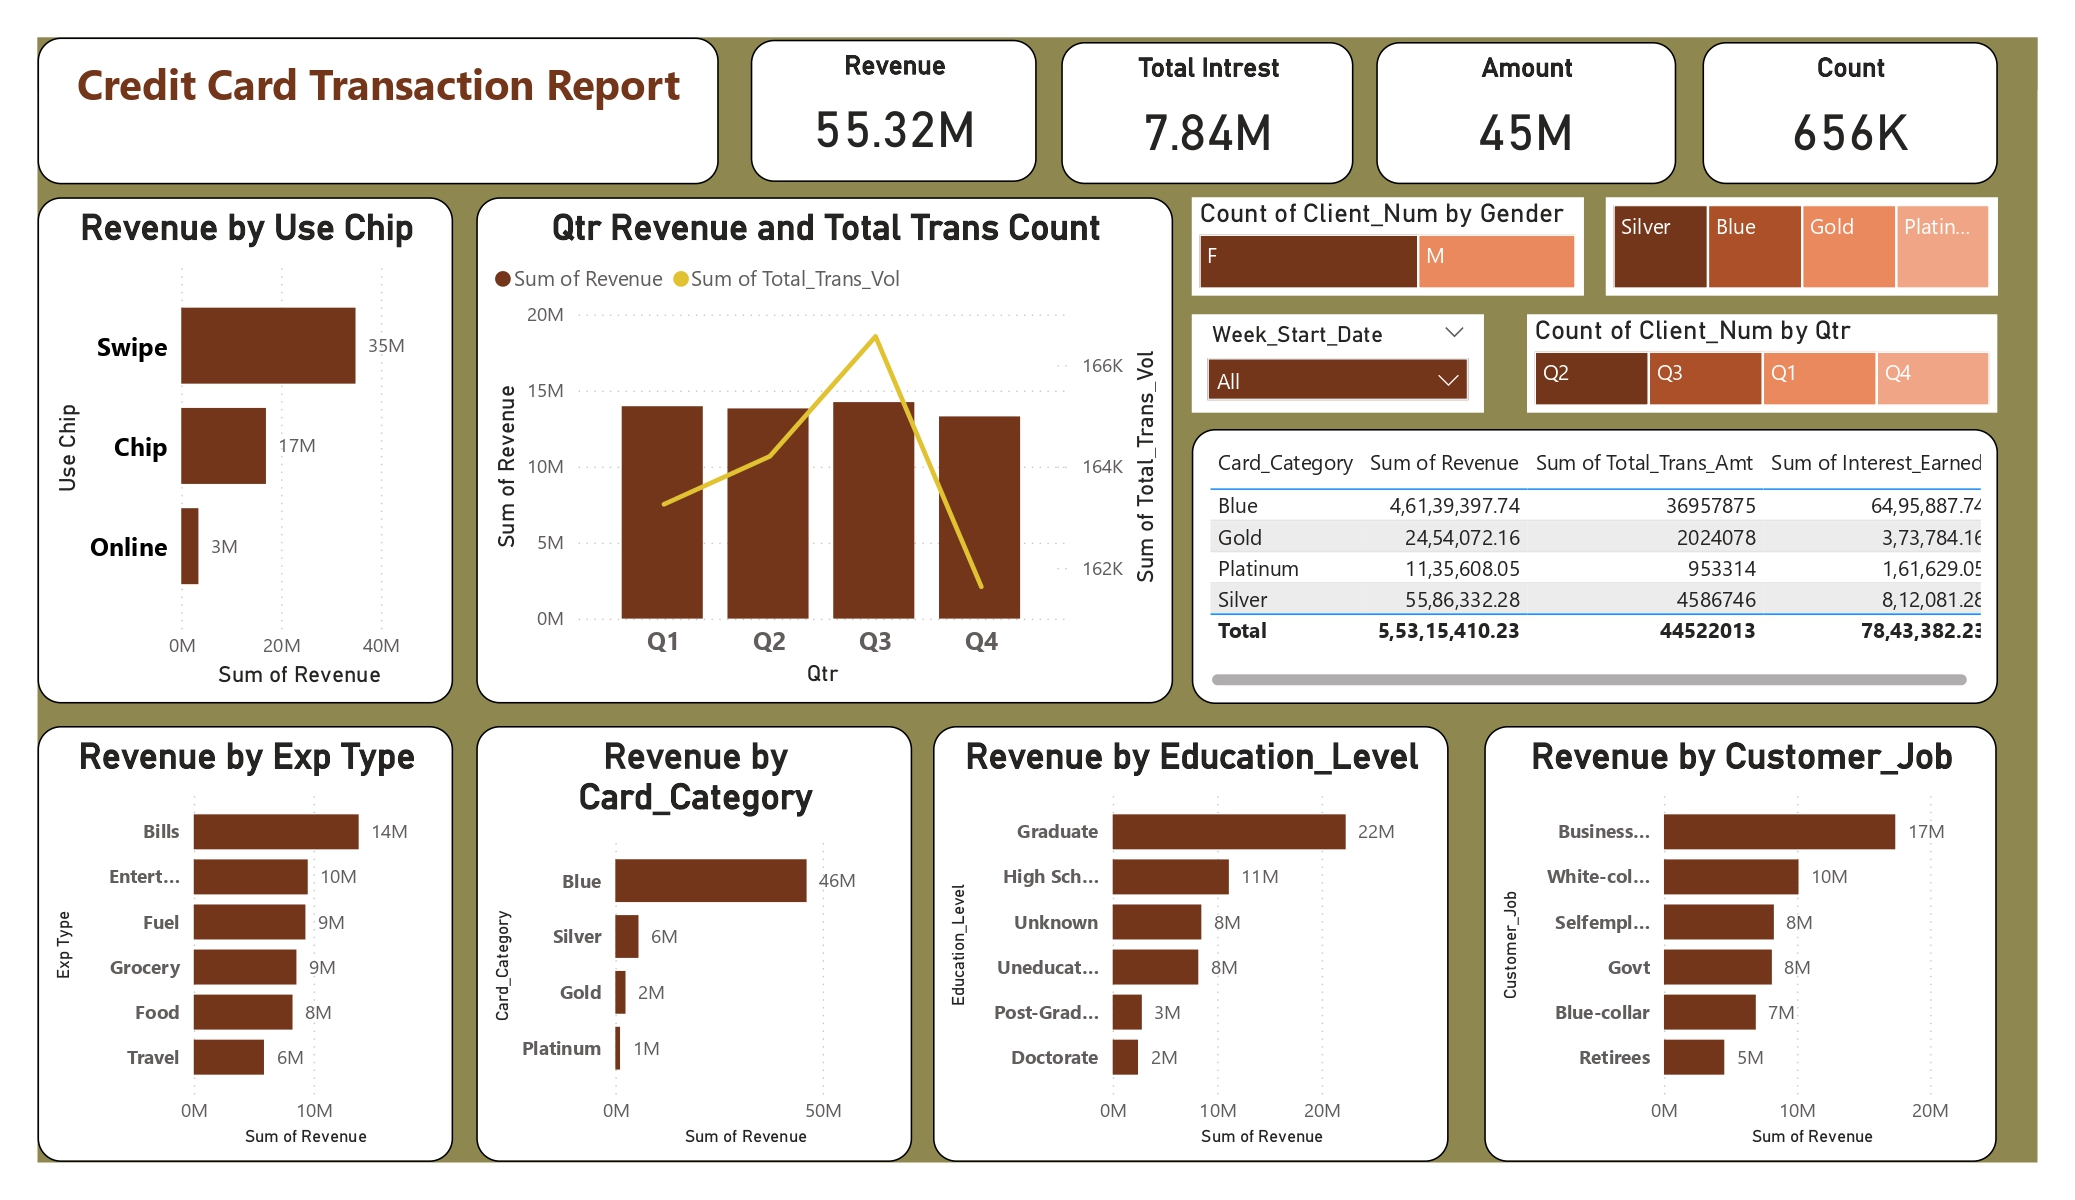

Layout of this report page (visuals, bound fields, positions):
{"tool":"powerbi","page":{"name":"Credit card transaction dashboard","canvas":[1280,720],"ordinal":0},"visuals":[{"type":"textbox","box":[0,0,436.3,93.6],"z":0},{"type":"lineStackedColumnComboChart","title":"Qtr Revenue and Total Trans Count","fields":{"Category":["credit_card.Qtr"],"Y":["Sum(credit_card.Revenue)"],"Y2":["Sum(credit_card.Total_Trans_Vol)"]},"box":[280.8,102.2,446.4,324],"z":1000},{"type":"barChart","title":"Revenue by Exp Type","fields":{"Y":["Sum(credit_card.Revenue)"],"Category":["credit_card.Exp Type"]},"box":[0,440.6,266.4,279.4],"z":2000},{"type":"barChart","title":"Revenue by Card_Category","fields":{"Category":["credit_card.Card_Category"],"Y":["Sum(credit_card.Revenue)"]},"box":[280.8,440.6,279.4,279.4],"z":3000},{"type":"barChart","title":"Revenue by Education_Level","fields":{"Y":["Sum(credit_card.Revenue)"],"Category":["customer.Education_Level"]},"box":[573.1,440.6,329.8,279.4],"z":4000},{"type":"barChart","title":"Revenue by Customer_Job","fields":{"Y":["Sum(credit_card.Revenue)"],"Category":["customer.Customer_Job"]},"box":[925.9,440.6,328.3,279.4],"z":5000},{"type":"barChart","title":"Revenue by Use Chip","fields":{"Category":["credit_card.Use Chip"],"Y":["Sum(credit_card.Revenue)"]},"box":[0,102.2,266.4,324],"z":6000},{"type":"tableEx","fields":{"Values":["credit_card.Card_Category","Sum(credit_card.Revenue)","Sum(credit_card.Total_Trans_Amt)","Sum(credit_card.Interest_Earned)"]},"box":[738.7,250.6,515.5,175.7],"z":7000},{"type":"card","title":"Revenue","fields":{"Values":["Sum(credit_card.Revenue)"]},"box":[456.5,1.4,182.9,90.7],"z":8000},{"type":"card","title":"Amount","fields":{"Values":["Sum(credit_card.Total_Trans_Amt)"]},"box":[856.8,2.9,191.5,90.7],"z":9000},{"type":"card","title":"Total Intrest","fields":{"Values":["Sum(credit_card.Interest_Earned)"]},"box":[655.2,2.9,187.2,90.7],"z":10000},{"type":"card","title":"Count","fields":{"Values":["Sum(credit_card.Total_Trans_Vol)"]},"box":[1065.6,2.9,188.6,90.7],"z":11000},{"type":"slicer","fields":{"Values":["credit_card.Week_Start_Date"]},"box":[738.7,177.1,187.2,63.4],"z":12000},{"type":"treemap","fields":{"Group":["credit_card.Qtr"],"Values":["CountNonNull(credit_card.Client_Num)"]},"box":[953.3,177.1,301,63.4],"z":13000},{"type":"treemap","fields":{"Values":["CountNonNull(credit_card.Client_Num)"],"Details":["customer.Gender"]},"box":[738.7,102.2,250.6,63.4],"z":14000},{"type":"treemap","fields":{"Group":["credit_card.Card_Category"],"Values":["Avg(credit_card.Client_Num)"]},"box":[1003.7,102.2,250.6,63.4],"z":15000}]}

Visuals, with their boxes in screenshot pixels (x1, y1, x2, y2):
textbox: {"x1": 38, "y1": 38, "x2": 719, "y2": 184}
"Qtr Revenue and Total Trans Count" lineStackedColumnComboChart: {"x1": 476, "y1": 197, "x2": 1174, "y2": 703}
"Revenue by Exp Type" barChart: {"x1": 38, "y1": 726, "x2": 454, "y2": 1162}
"Revenue by Card_Category" barChart: {"x1": 476, "y1": 726, "x2": 913, "y2": 1162}
"Revenue by Education_Level" barChart: {"x1": 933, "y1": 726, "x2": 1448, "y2": 1162}
"Revenue by Customer_Job" barChart: {"x1": 1484, "y1": 726, "x2": 1997, "y2": 1162}
"Revenue by Use Chip" barChart: {"x1": 38, "y1": 197, "x2": 454, "y2": 703}
tableEx - credit_card.Card_Category x Sum(credit_card.Revenue): {"x1": 1192, "y1": 429, "x2": 1997, "y2": 704}
"Revenue" card: {"x1": 751, "y1": 40, "x2": 1037, "y2": 181}
"Amount" card: {"x1": 1376, "y1": 42, "x2": 1675, "y2": 184}
"Total Intrest" card: {"x1": 1061, "y1": 42, "x2": 1354, "y2": 184}
"Count" card: {"x1": 1702, "y1": 42, "x2": 1997, "y2": 184}
slicer - credit_card.Week_Start_Date: {"x1": 1192, "y1": 314, "x2": 1484, "y2": 413}
treemap - credit_card.Qtr x CountNonNull(credit_card.Client_Num): {"x1": 1527, "y1": 314, "x2": 1997, "y2": 413}
treemap - CountNonNull(credit_card.Client_Num) x customer.Gender: {"x1": 1192, "y1": 197, "x2": 1583, "y2": 296}
treemap - credit_card.Card_Category x Avg(credit_card.Client_Num): {"x1": 1606, "y1": 197, "x2": 1997, "y2": 296}
